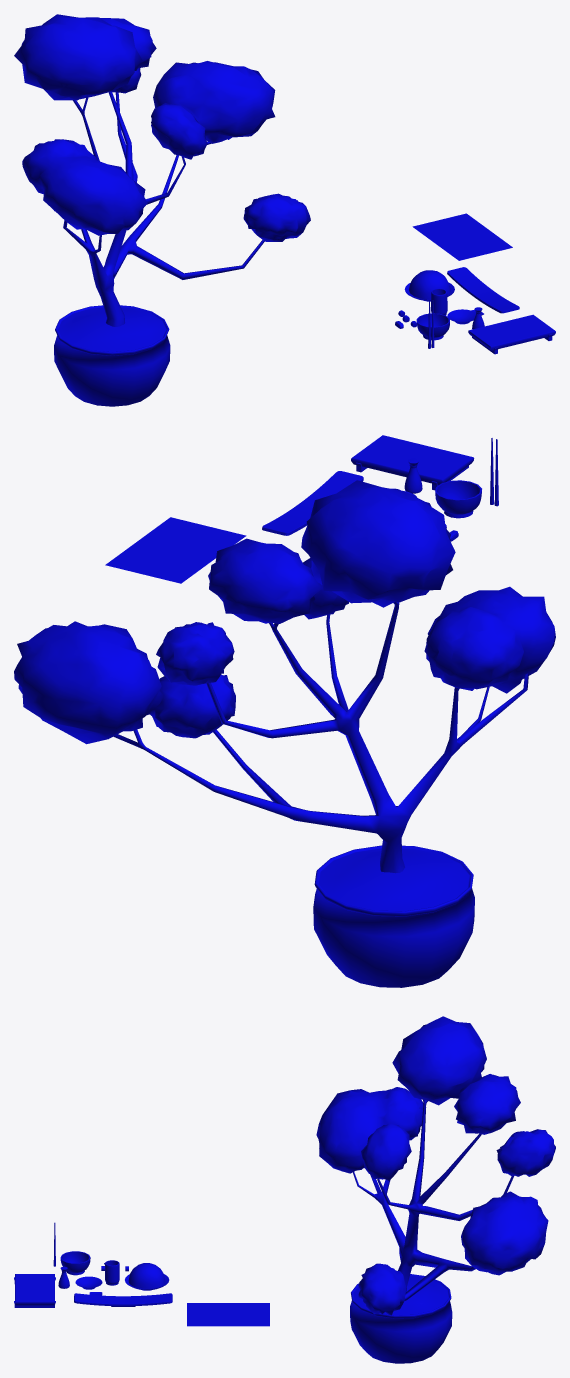
Rendered from Atlas_Props.fbx.
3 views of the same model, one above another, from view 1: azimuth 30°, elevation 25°; view 2: azimuth 150°, elevation 25°; view 3: azimuth 270°, elevation 25° (orthographic). The views are drawn at different scales.
Parts seen in each view (by area): view 1: Pianta, Tovaglietta, tagliere, PiattoLongo, CupolaTraspRullo, ciotola; view 2: Pianta, Tovaglietta, tagliere, PiattoLongo, ciotola; view 3: Pianta, Tovaglietta, tagliere, PiattoLongo, CupolaTraspRullo, ciotola.
Part boxes in pixels (box(x1,y1,x2,y2)): Pianta: box(14, 14, 310, 406); Tovaglietta: box(412, 213, 512, 260); tagliere: box(468, 314, 555, 354); PiattoLongo: box(447, 267, 519, 313); CupolaTraspRullo: box(409, 270, 450, 299); ciotola: box(416, 313, 449, 340); Pianta: box(14, 480, 555, 987); Tovaglietta: box(105, 517, 246, 583); tagliere: box(351, 435, 474, 490); PiattoLongo: box(262, 471, 363, 535); ciotola: box(435, 480, 481, 518); Pianta: box(316, 1016, 555, 1363); Tovaglietta: box(187, 1303, 269, 1326); tagliere: box(14, 1274, 55, 1307); PiattoLongo: box(74, 1293, 172, 1306); CupolaTraspRullo: box(128, 1263, 165, 1288); ciotola: box(60, 1251, 90, 1275).
Size of the model in its own units: 201 by 186 by 288.
